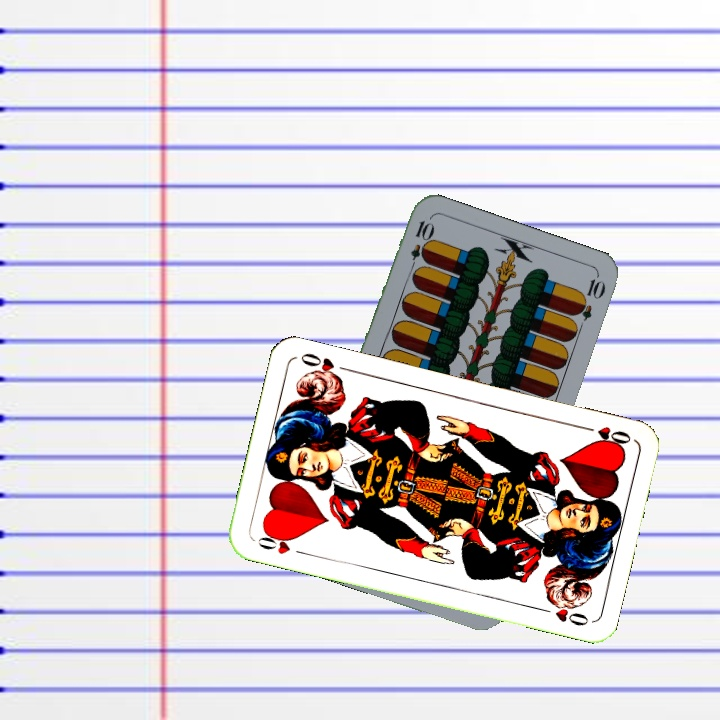E10: (405, 216, 434, 275)
HO: (253, 527, 309, 558), (577, 421, 634, 451)
